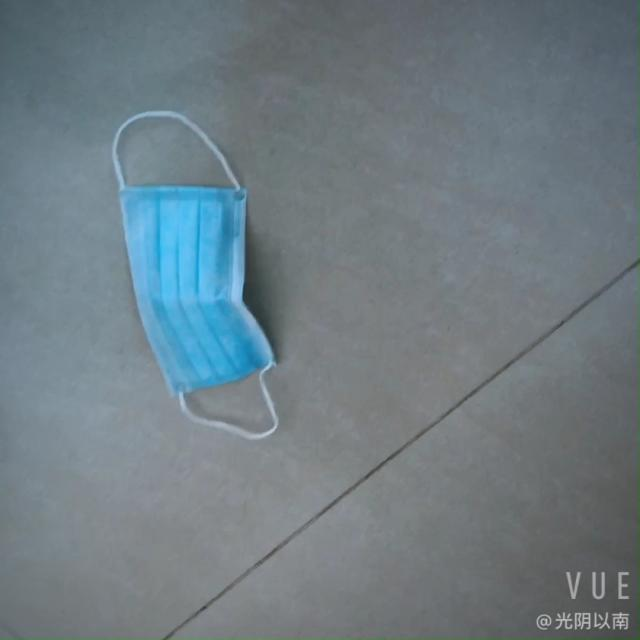non-organic waste: (101, 123, 286, 431)
